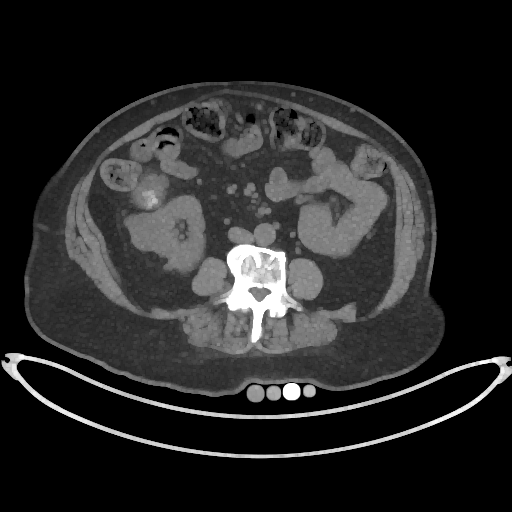Lesion: (121, 214, 171, 254)
